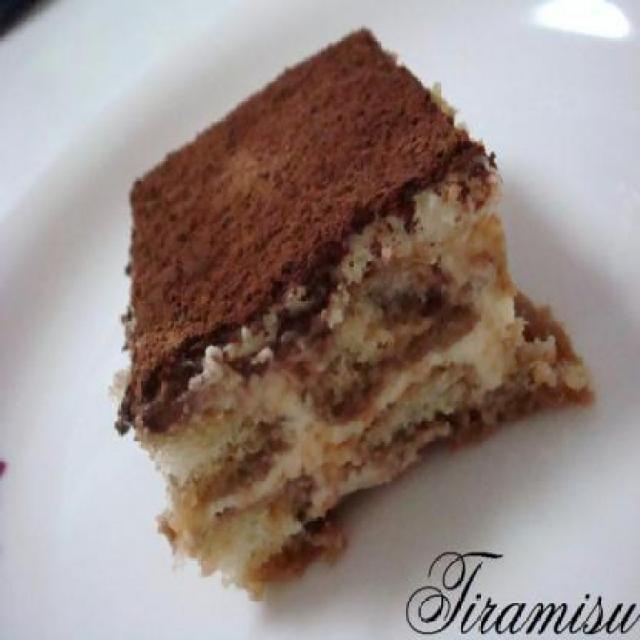Tiramisu: (106, 29, 563, 571)
